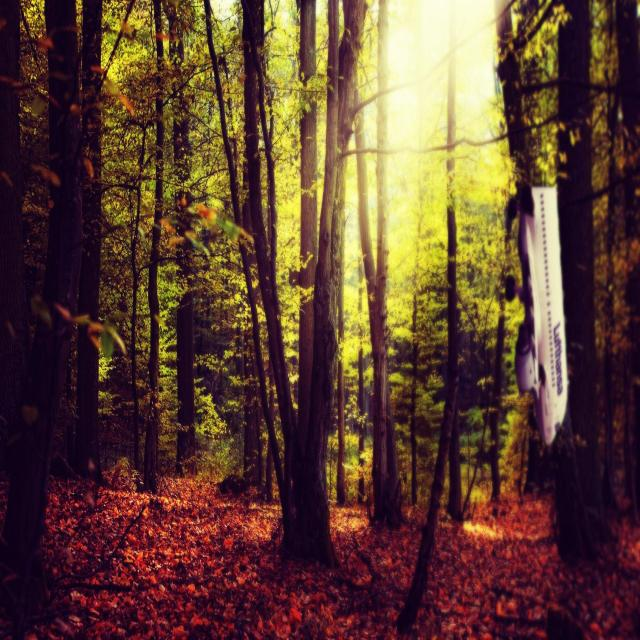airplane: (504, 180, 568, 446)
